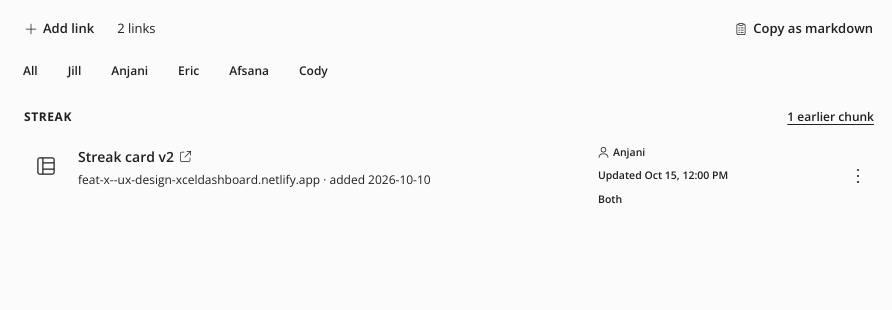
Test: the Refinement board › opens the earlier chunks, which stay clickable — the reward for small branches
Click the button "1 earlier chunk" at (831, 116), box [787,108,874,126]
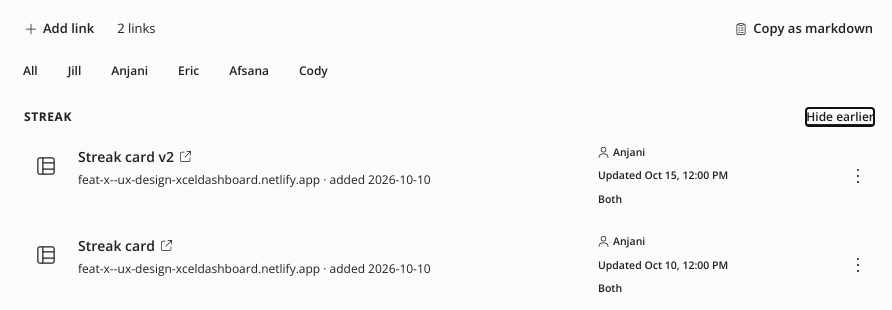
Now the button "Hide earlier" is shown, box [806,108,874,126]
